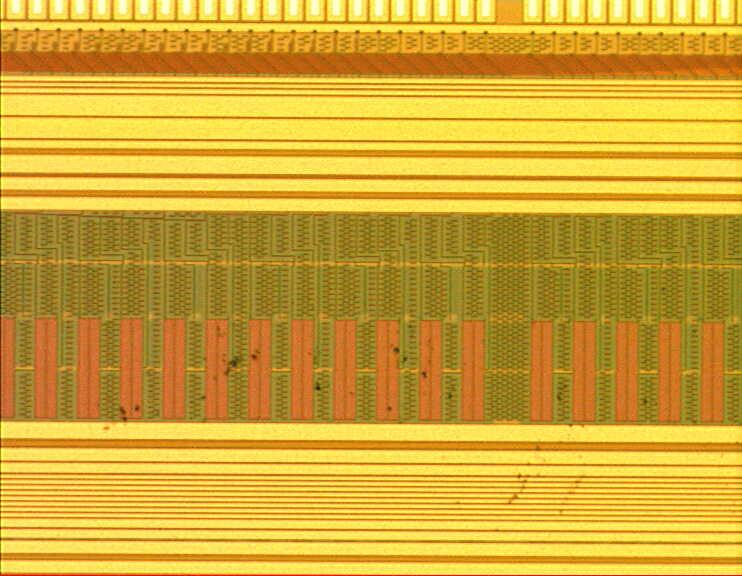PO CONTAMINATION: (90, 280, 703, 540)
